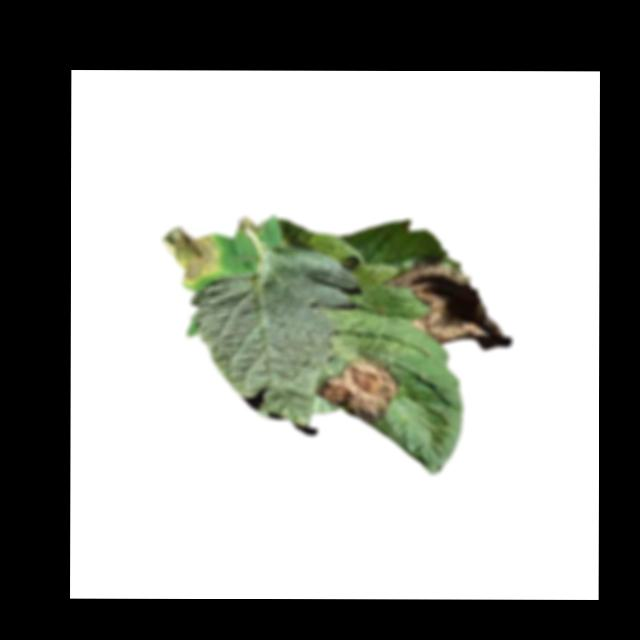Late_blight: (382, 258, 511, 350), (316, 354, 399, 425), (157, 226, 221, 286), (236, 214, 268, 234)
healthy: (188, 244, 358, 435)
